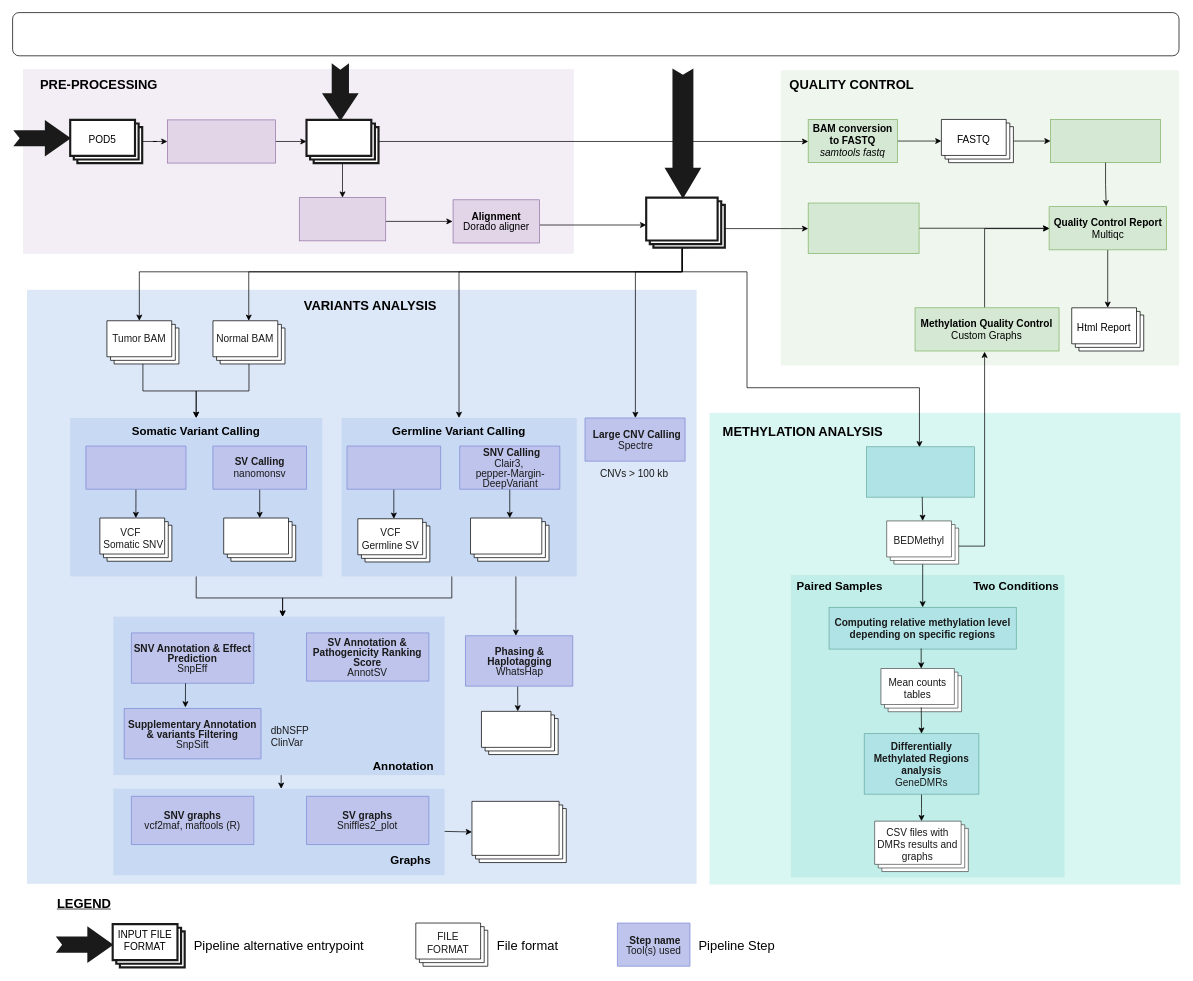
Image size: 1193x981. Some labels were removed from this diagram. Here are the shapes that lost their labels. From the top down, the centre of each, then its label:
At [595,34]: "BIGR LONG READS BULK PIPELINE".
At [221,141]: "Basecalling / Methylation Calling Dorado".
At [342,141]: "Unaligned BAM".
At [1105,141]: "Quality Control FastQC, FastQ Screen".
At [342,219]: "Filtering Pysam".
At [685,222]: "Aligned BAM".
At [863,227]: "BAM Quality Control NanoPlot , qualimap, mosdepth".
At [135,467]: "SNV Calling ClairS".
At [393,467]: "SV Calling Sniffles2, cuteSV".
At [920,471]: "Splitting & Aggregation Modkit".
At [259,539]: "VCF Somatic SV".
At [509,539]: "VCF Germline SNV".
At [519,733]: "Haplotagged BAM".
At [518,832]: "Annotated VCF files and graphs".
